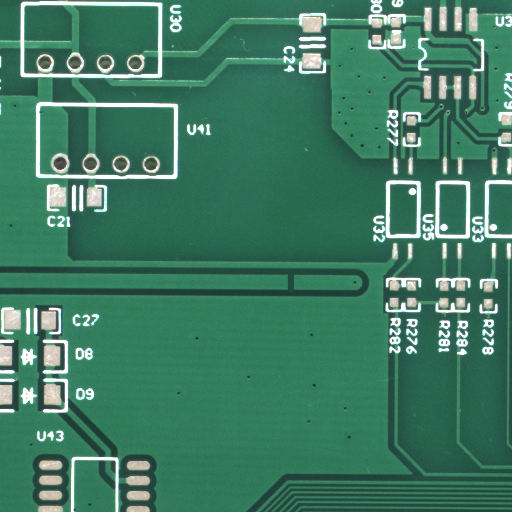Open_circuit: (291, 281, 303, 304)
